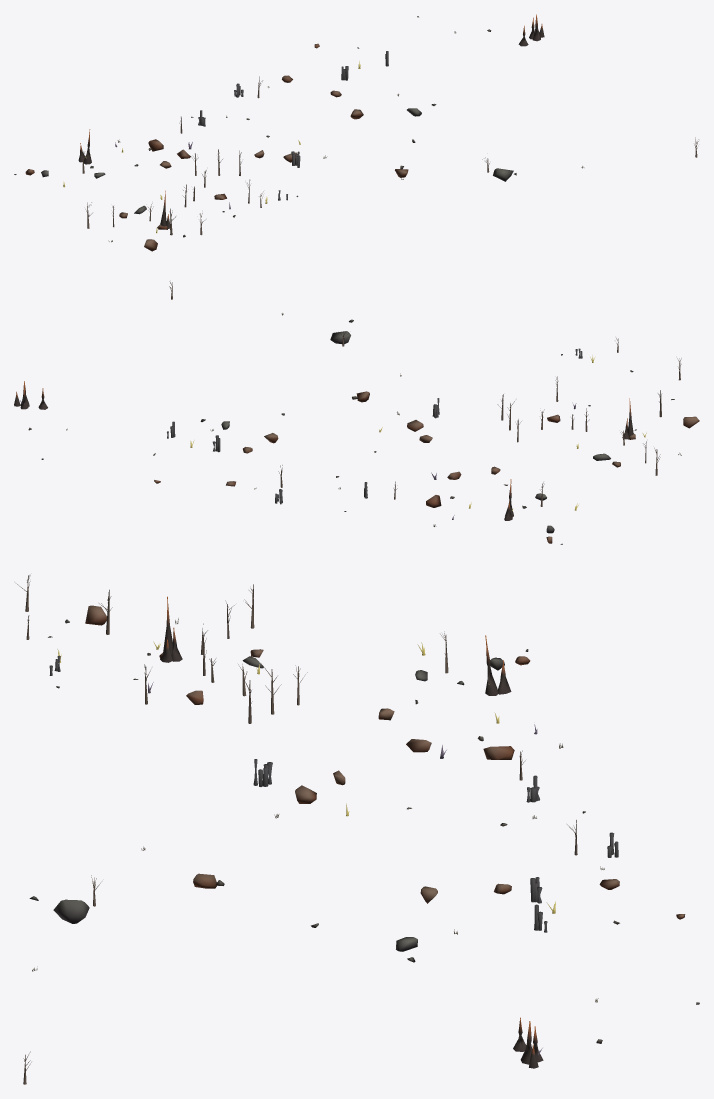
Rendered from ash_land_scatter_c21_27.glb.
3 renders of one model, top to bottom at view 1: azimuth 30°, elevation 25°; view 2: azimuth 150°, elevation 25°; view 3: azimuth 270°, elevation 25°, orthographic. The views are drawn at different scales.
Visible parts, largest first — view 1: ash_land_scatter_c21_27; view 2: ash_land_scatter_c21_27; view 3: ash_land_scatter_c21_27.
Boxes of the visible parts, box(x1,y1,x2,y2) form: ash_land_scatter_c21_27: box(14, 14, 698, 251); ash_land_scatter_c21_27: box(14, 281, 699, 544); ash_land_scatter_c21_27: box(16, 575, 699, 1084).
Size of the model in its own units: 183 by 23.26 by 119.
